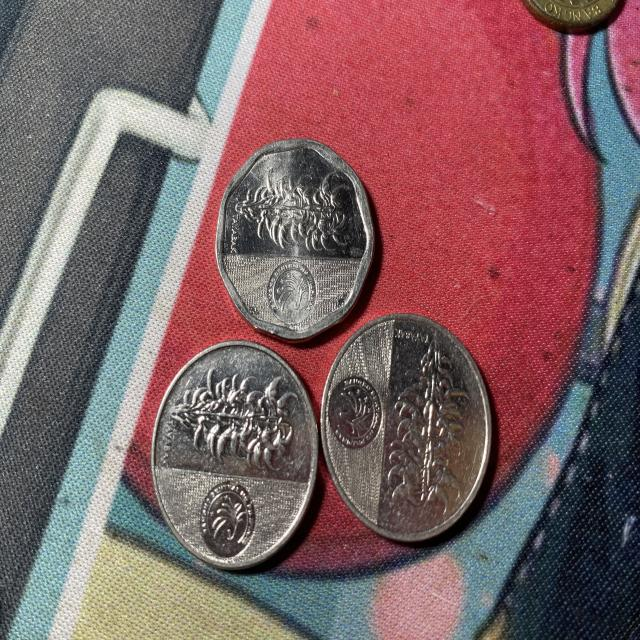5_New_Back: (385, 342, 473, 520), (168, 369, 302, 473), (241, 166, 347, 260)
